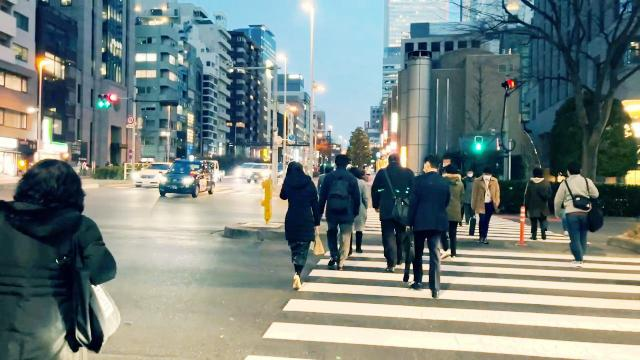berjalan: (2, 151, 121, 360), (409, 152, 451, 301), (316, 152, 364, 270), (277, 158, 317, 294), (374, 152, 418, 272), (555, 160, 603, 262), (524, 168, 554, 240), (475, 161, 499, 241)
